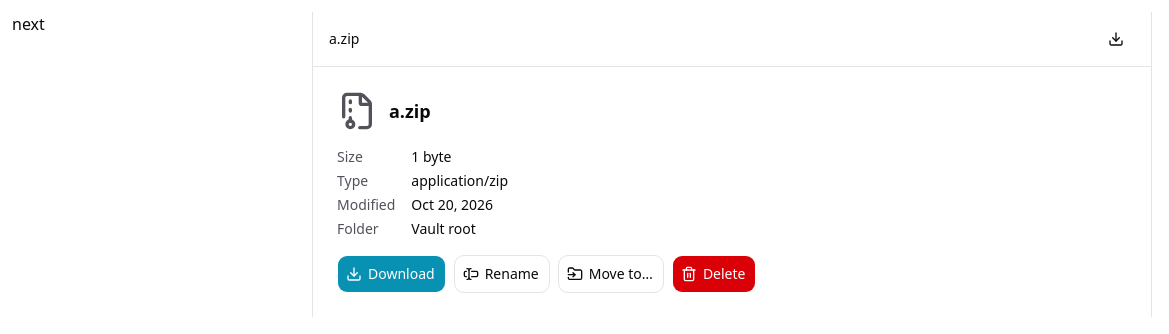
Test: closes the rename box when another file opens
Step 1. Click the button "Rename" → [502, 274], box [454,255,550,293]
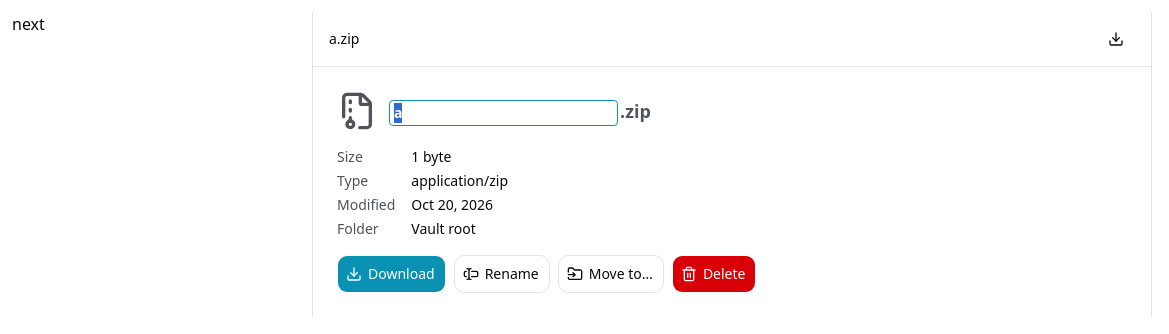
Result: the field holds "a" at [389,100,618,126]
Step 2. Click the link "next" → [28, 24], box [12,13,45,35]
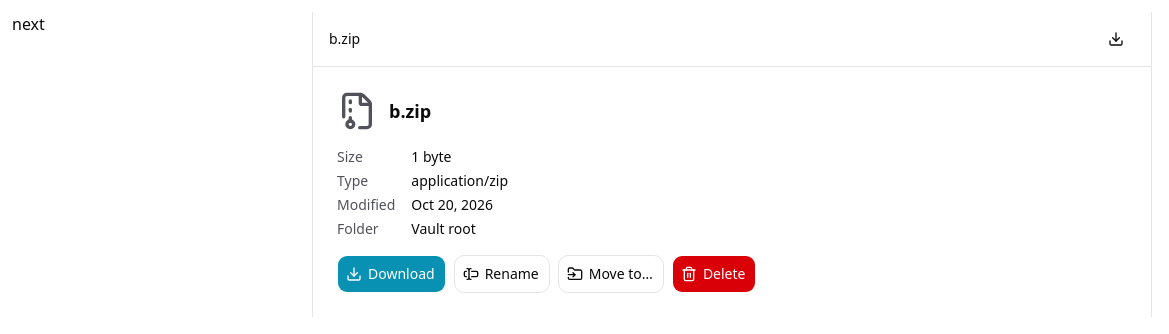
Result: the heading "b.zip" is shown at [389,97,431,125]
Result: the field is gone
